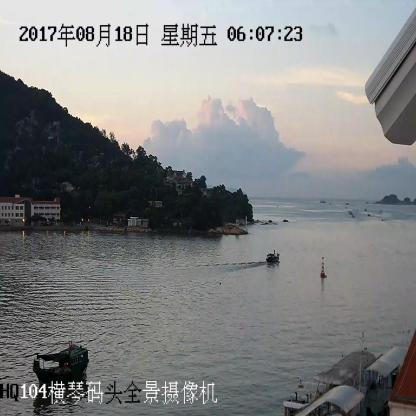Fishing Boat: (32, 344, 90, 382), (265, 254, 280, 263)
